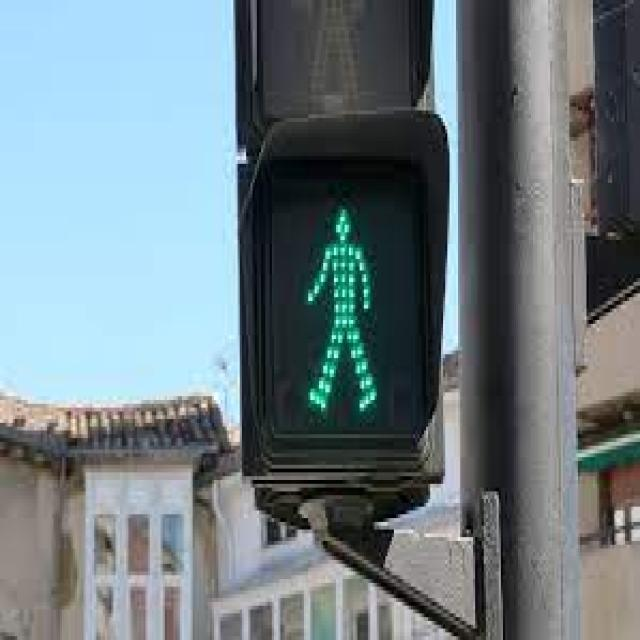green_light: (276, 169, 418, 434)
